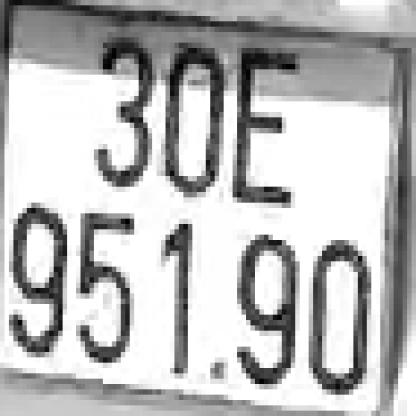0: (308, 235, 366, 389), (166, 48, 219, 197)
1: (152, 214, 206, 374)
3: (94, 37, 156, 198)
5: (80, 208, 138, 357)
9: (233, 235, 295, 384), (9, 208, 67, 347)
E: (228, 48, 295, 203)
